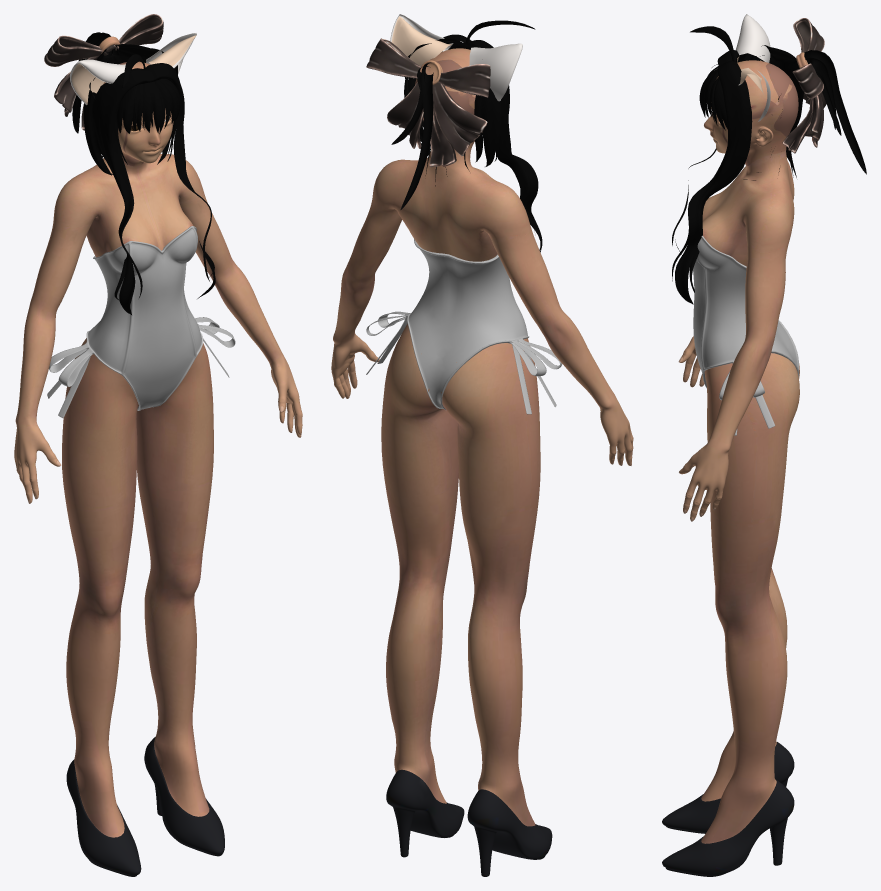
Rendered from bunny2.gltf.
3 renders of one model, left to right at view 1: azimuth 30°, elevation 25°; view 2: azimuth 150°, elevation 25°; view 3: azimuth 270°, elevation 25°, orthographic. The views are drawn at different scales.
Visible parts, largest first — view 1: D0607085, D0607085.001; view 2: D0607085, D0607085.001; view 3: D0607085, D0607085.001.
Part boxes in pixels (x1,y1,x2,y2): D0607085: (14, 14, 302, 876); D0607085.001: (47, 226, 235, 418); D0607085: (331, 14, 633, 876); D0607085.001: (366, 239, 562, 414); D0607085: (662, 14, 866, 876); D0607085.001: (693, 235, 798, 435).
Size of the model in its own units: 3.63 by 9.94 by 2.28.
Materials: 5 (3 with a texture image).
